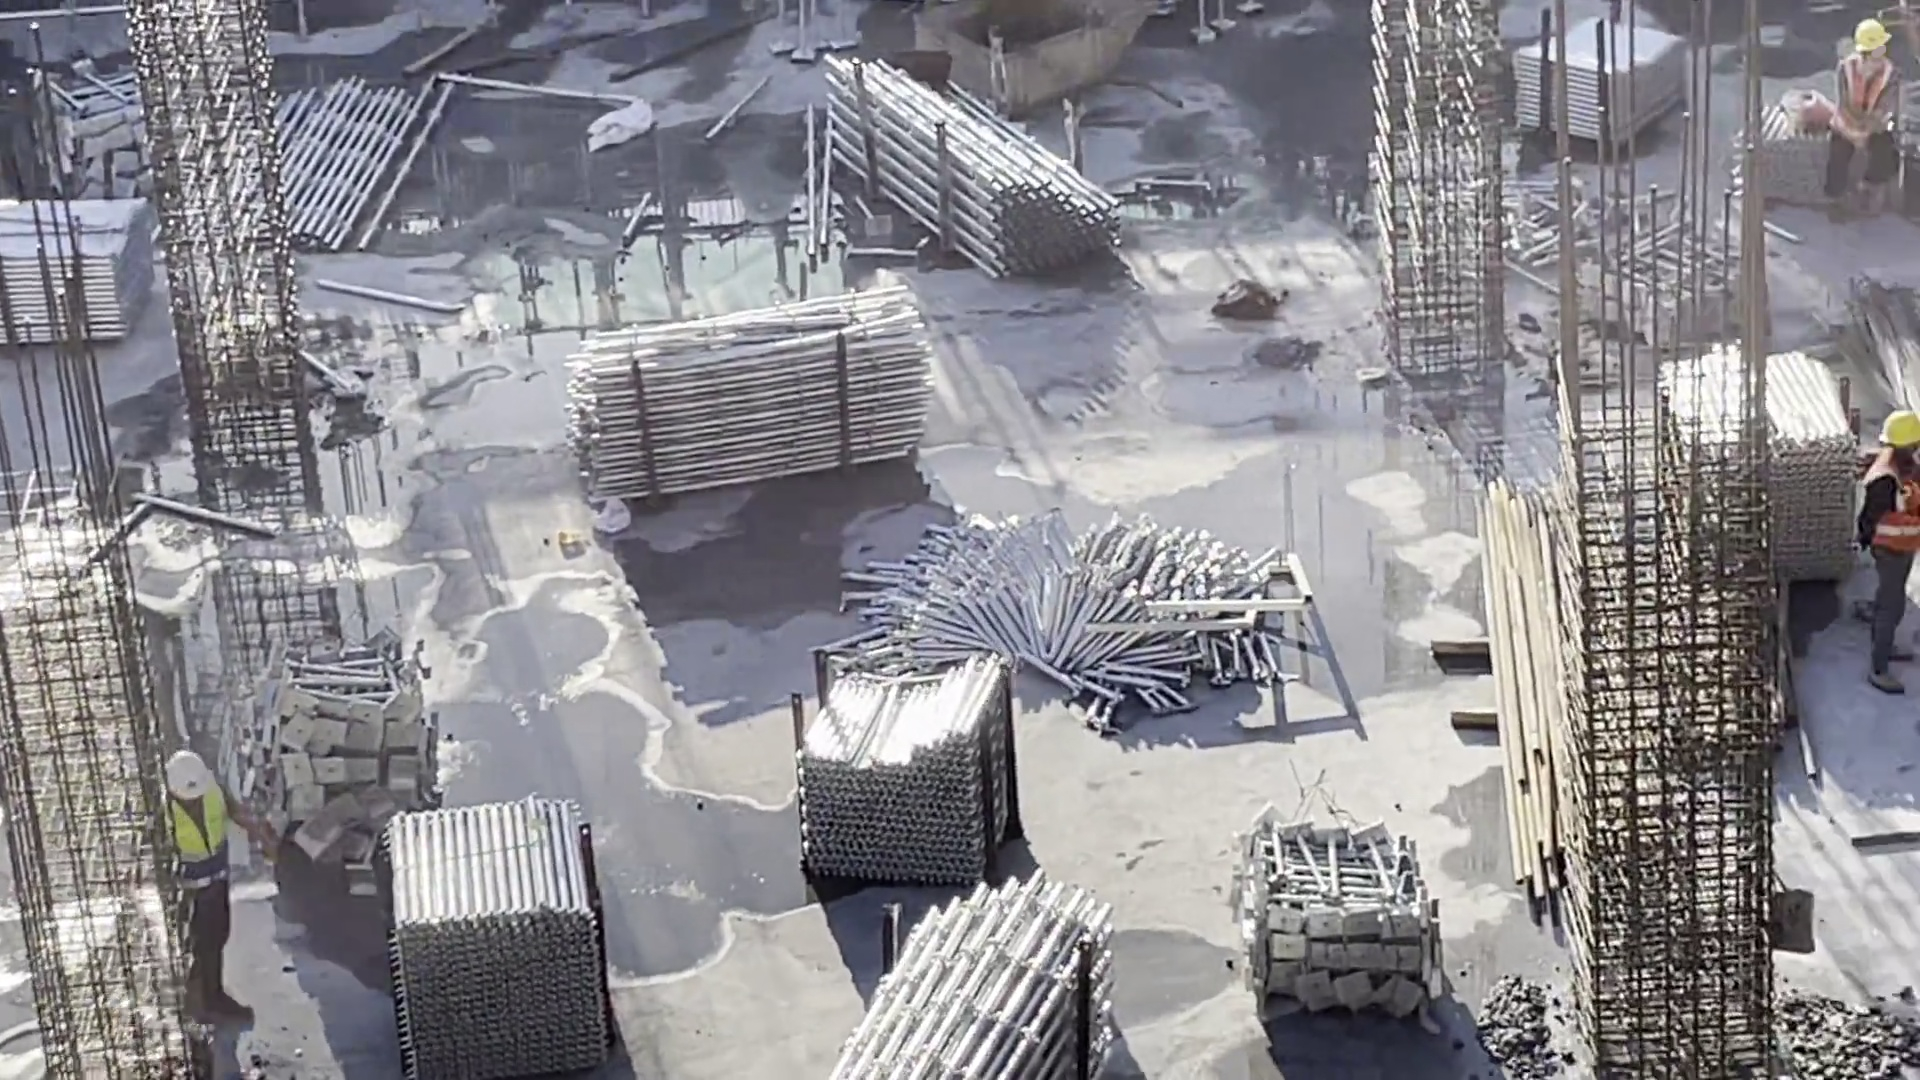helmet: (157, 748, 208, 800), (1882, 411, 1917, 444), (1847, 18, 1884, 46)
hopper: (919, 5, 1129, 105)
person: (137, 738, 266, 1032), (1845, 402, 1918, 720), (1821, 11, 1907, 201)
rebar: (1859, 274, 1920, 407)
scaffold: (878, 526, 1251, 711), (560, 315, 917, 481), (792, 641, 1035, 884), (850, 880, 1135, 1080), (849, 80, 1083, 285), (383, 809, 560, 1051), (1679, 375, 1849, 608), (218, 100, 406, 232), (1514, 16, 1686, 156), (1, 210, 172, 348), (1740, 140, 1803, 211)
vest: (1862, 463, 1920, 548), (165, 803, 230, 879), (1832, 54, 1892, 134)
